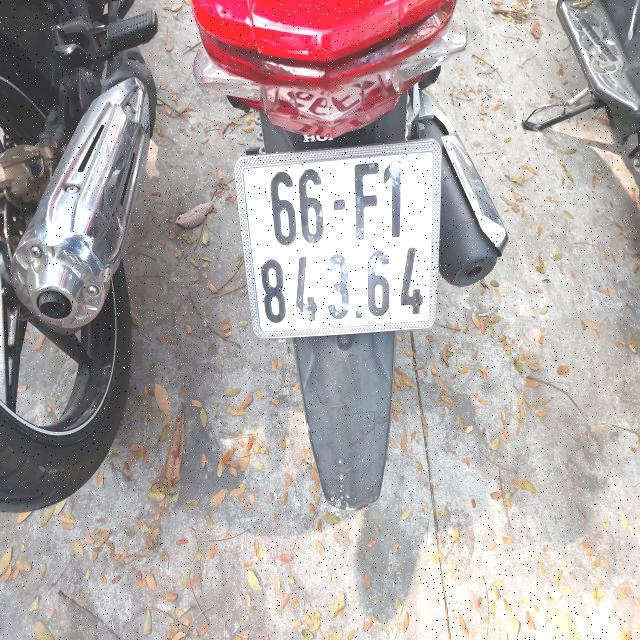1: (384, 159, 404, 240)
3: (326, 255, 350, 318)
4: (400, 244, 426, 316), (293, 256, 319, 321)
6: (268, 170, 296, 247), (298, 169, 325, 245), (366, 251, 392, 317)
8: (259, 260, 288, 324)
F: (352, 162, 381, 244)
